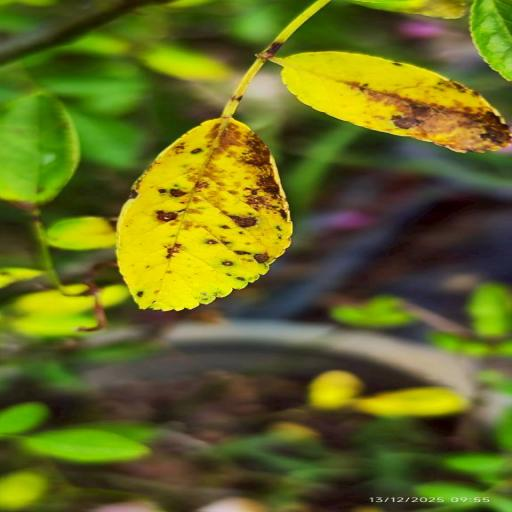black_spot: (117, 118, 292, 311), (274, 52, 509, 152)
